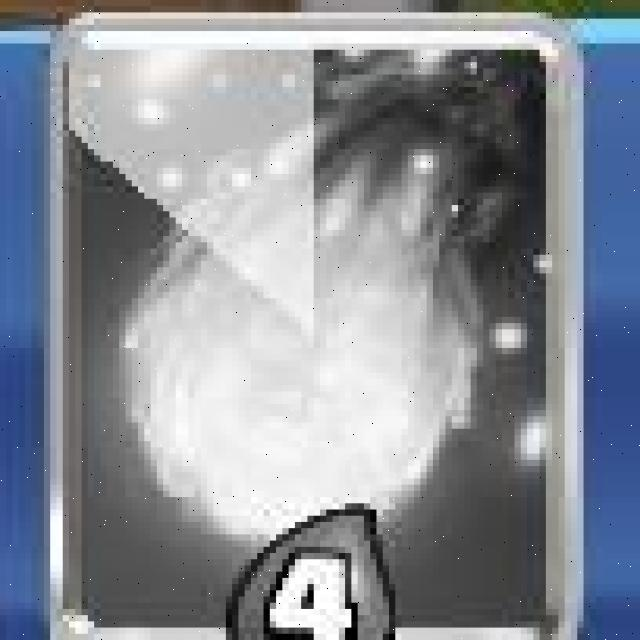Fireball: (59, 24, 582, 640)
